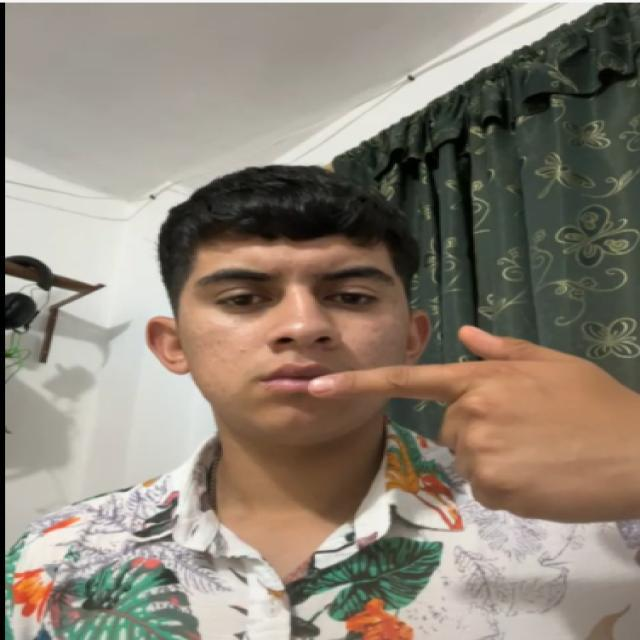G: (309, 311, 640, 526)
